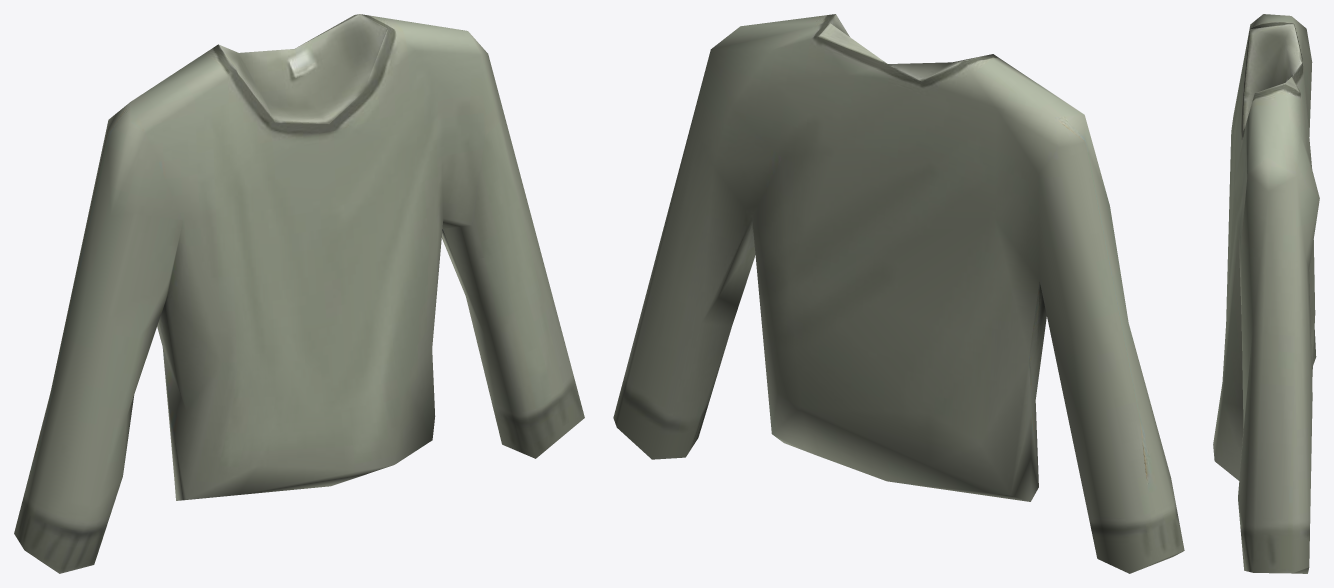
File: clothes_jumper.fbx
The picture shows the model from 3 angles, left to right: view 1: azimuth 30°, elevation 25°; view 2: azimuth 150°, elevation 25°; view 3: azimuth 270°, elevation 25°; orthographic projection. The views are drawn at different scales.
Visible parts, largest first — view 1: clothes_jumper; view 2: clothes_jumper; view 3: clothes_jumper.
Part boxes in pixels (x1,y1,x2,y2): clothes_jumper: (14, 14, 584, 573); clothes_jumper: (613, 14, 1184, 573); clothes_jumper: (1213, 14, 1319, 573).
Size of the model in its own units: 91.66 by 16.94 by 74.25.
